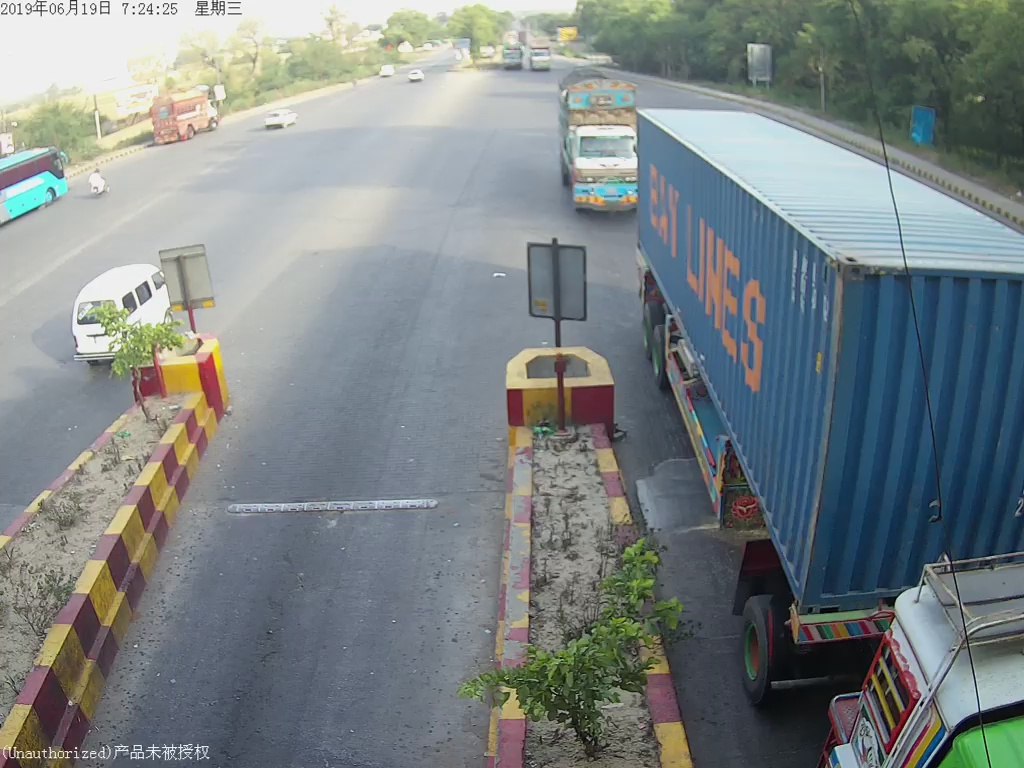Cat-4: (557, 83, 636, 219)
